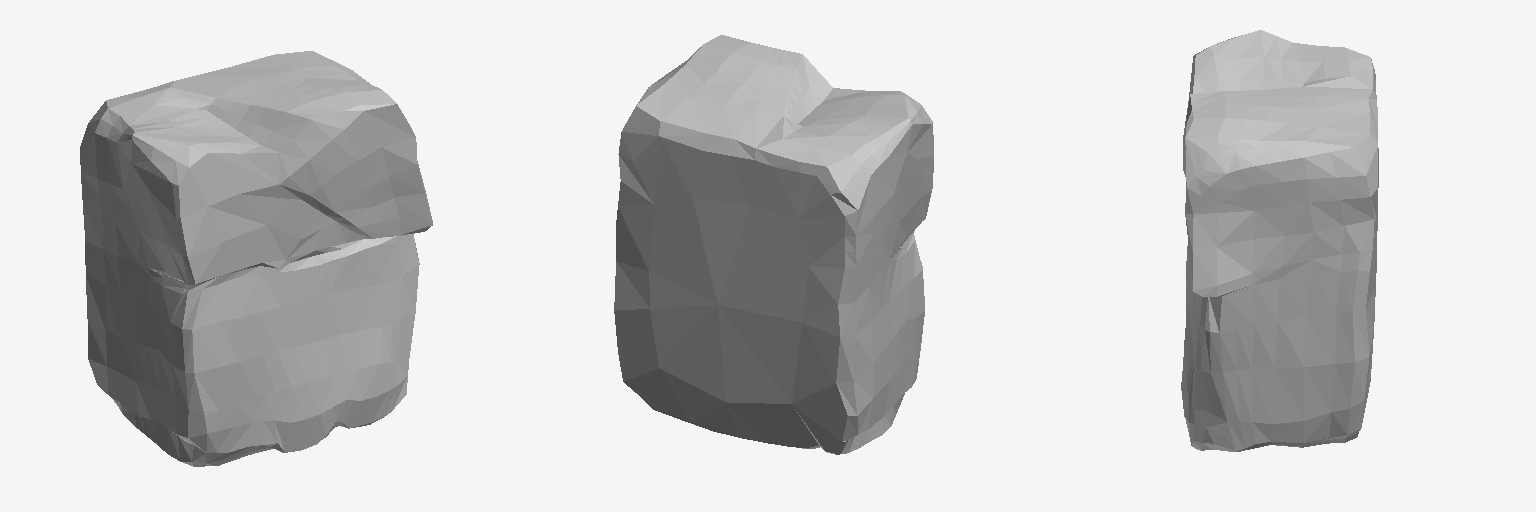
File: squareRock.obj
3 renders of one model, left to right at view 1: azimuth 30°, elevation 25°; view 2: azimuth 150°, elevation 25°; view 3: azimuth 270°, elevation 25°, orthographic.
Parts seen in each view (by area): view 1: Object.1; view 2: Object.1; view 3: Object.1.
Part boxes in pixels (x1,y1,x2,y2): Object.1: (80,51,432,466); Object.1: (614,35,933,454); Object.1: (1181,30,1378,451).
Bounding box in the file's own units: 25.32 × 30.36 × 16.09.